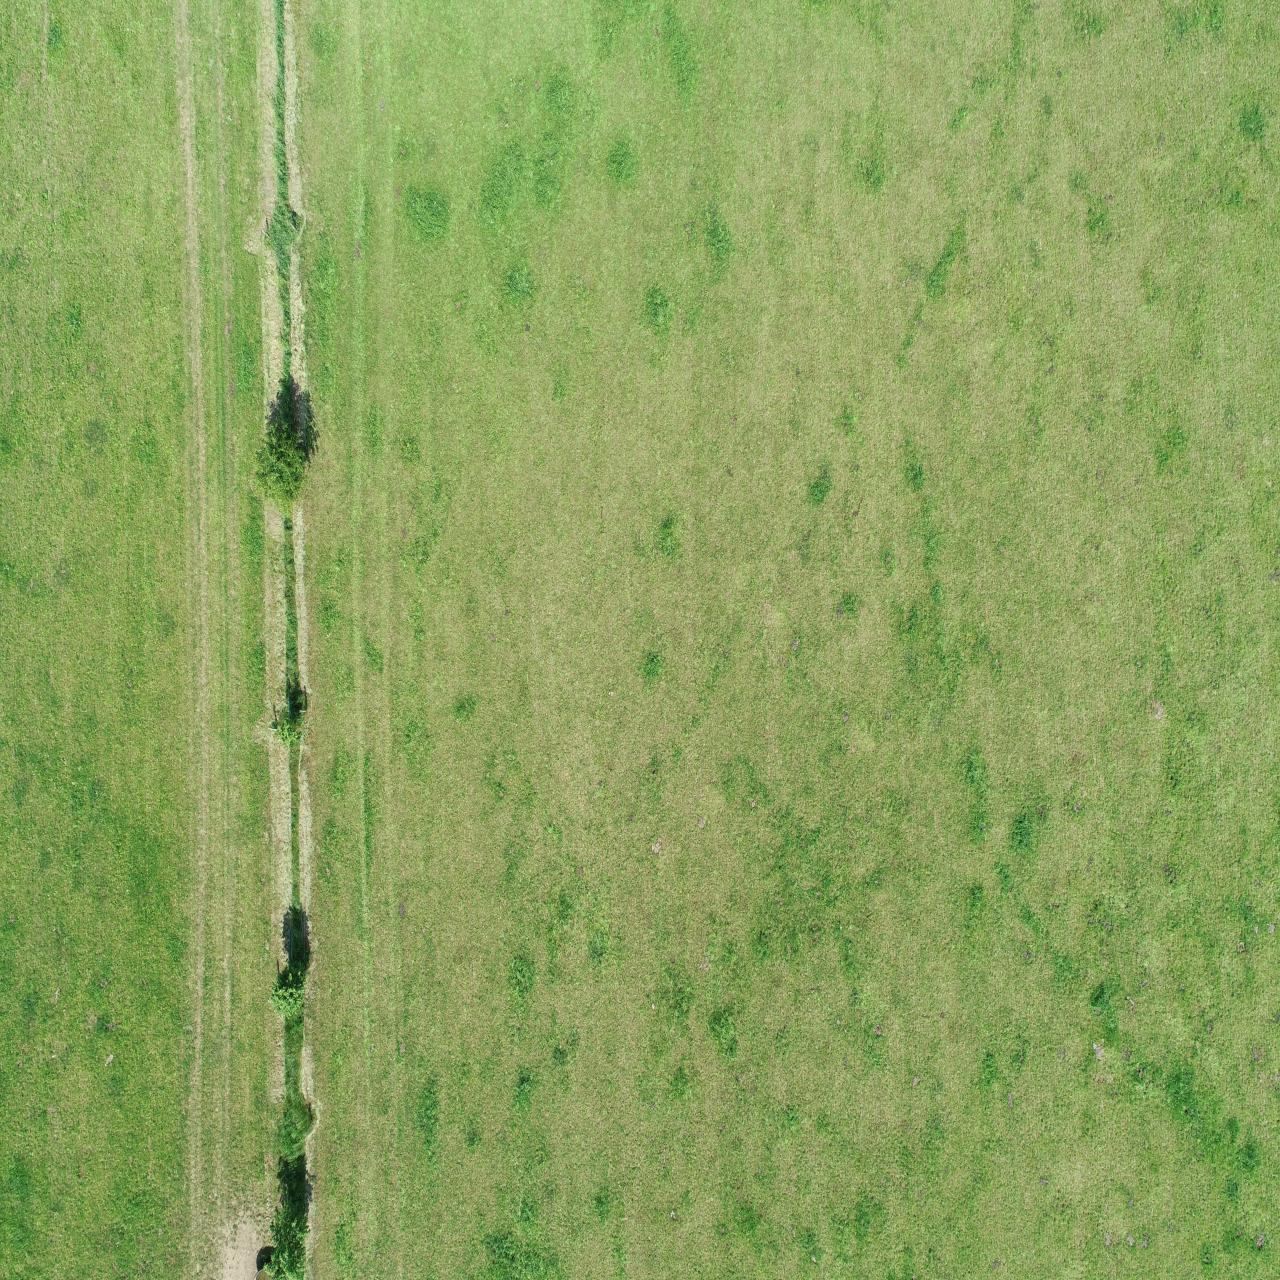cow: (542, 144, 579, 192), (520, 475, 535, 535)
